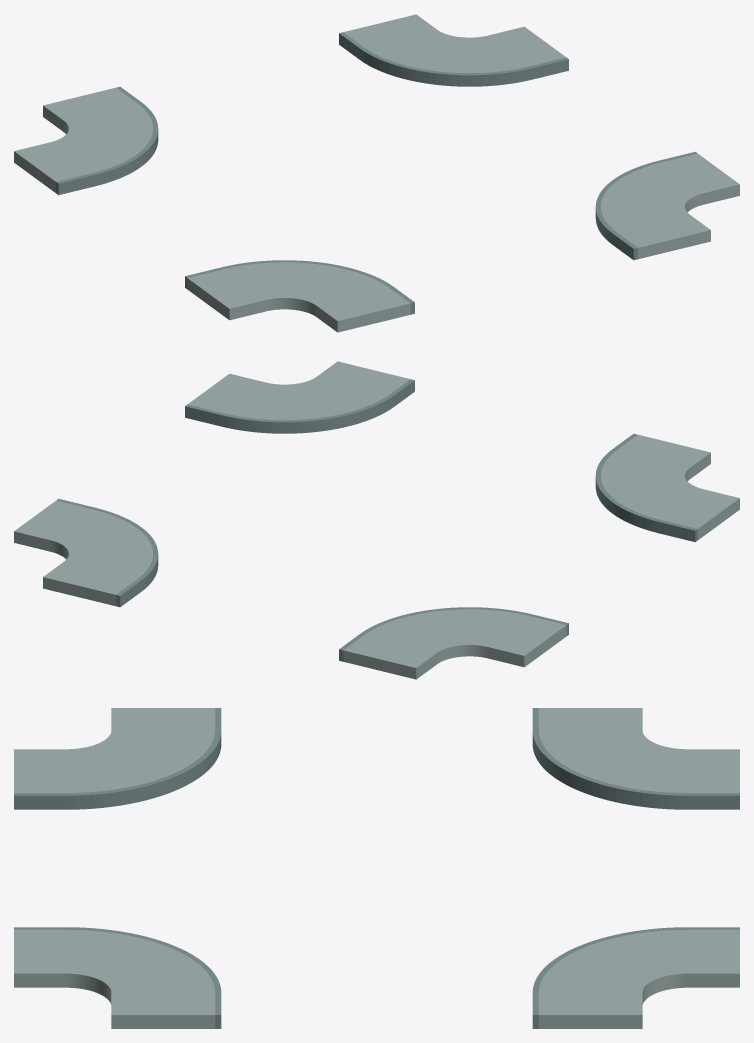
The model's file is RoadPlan_WalkCorner_X_2L.glb.
3 renders of one model, top to bottom at view 1: azimuth 30°, elevation 25°; view 2: azimuth 150°, elevation 25°; view 3: azimuth 270°, elevation 25°, orthographic. The views are drawn at different scales.
Visible parts, largest first — view 1: RoadPlan_WalkCorner_X_2L_CornerPaving_0, RoadPlan_WalkCorner_X_2L_CornerPaving_1, RoadPlan_WalkCorner_X_2L_CornerPaving_3, RoadPlan_WalkCorner_X_2L_CornerPaving_2, RoadPlan_WalkCorner_X_2L_ApproachPaving_0_1, RoadPlan_WalkCorner_X_2L_CornerCurb_2, RoadPlan_WalkCorner_X_2L_ApproachPaving_0_0, RoadPlan_WalkCorner_X_2L_ApproachPaving_1_0, RoadPlan_WalkCorner_X_2L_ApproachPaving_3_1, RoadPlan_WalkCorner_X_2L_ApproachPaving_1_1, RoadPlan_WalkCorner_X_2L_ApproachPaving_3_0, RoadPlan_WalkCorner_X_2L_ApproachPaving_2_1 (+6 smaller); view 2: RoadPlan_WalkCorner_X_2L_CornerPaving_3, RoadPlan_WalkCorner_X_2L_CornerPaving_2, RoadPlan_WalkCorner_X_2L_CornerPaving_0, RoadPlan_WalkCorner_X_2L_CornerPaving_1, RoadPlan_WalkCorner_X_2L_ApproachPaving_3_0, RoadPlan_WalkCorner_X_2L_CornerCurb_1, RoadPlan_WalkCorner_X_2L_ApproachPaving_3_1, RoadPlan_WalkCorner_X_2L_ApproachPaving_2_1, RoadPlan_WalkCorner_X_2L_ApproachPaving_0_0, RoadPlan_WalkCorner_X_2L_ApproachPaving_2_0, RoadPlan_WalkCorner_X_2L_ApproachPaving_0_1, RoadPlan_WalkCorner_X_2L_ApproachPaving_1_0 (+6 smaller); view 3: RoadPlan_WalkCorner_X_2L_CornerPaving_1, RoadPlan_WalkCorner_X_2L_CornerPaving_2, RoadPlan_WalkCorner_X_2L_CornerPaving_0, RoadPlan_WalkCorner_X_2L_CornerPaving_3, RoadPlan_WalkCorner_X_2L_ApproachPaving_1_1, RoadPlan_WalkCorner_X_2L_ApproachPaving_2_0, RoadPlan_WalkCorner_X_2L_ApproachPaving_1_0, RoadPlan_WalkCorner_X_2L_ApproachPaving_2_1, RoadPlan_WalkCorner_X_2L_CornerCurb_3, RoadPlan_WalkCorner_X_2L_CornerCurb_0, RoadPlan_WalkCorner_X_2L_ApproachPaving_0_0, RoadPlan_WalkCorner_X_2L_ApproachPaving_3_1 (+6 smaller).
Boxes of the visible parts, bbox=[...] form: RoadPlan_WalkCorner_X_2L_CornerPaving_0: bbox=[224, 262, 388, 316]; RoadPlan_WalkCorner_X_2L_CornerPaving_1: bbox=[601, 162, 703, 232]; RoadPlan_WalkCorner_X_2L_CornerPaving_3: bbox=[50, 103, 152, 172]; RoadPlan_WalkCorner_X_2L_CornerPaving_2: bbox=[365, 30, 529, 73]; RoadPlan_WalkCorner_X_2L_ApproachPaving_0_1: bbox=[316, 288, 410, 332]; RoadPlan_WalkCorner_X_2L_CornerCurb_2: bbox=[360, 47, 532, 86]; RoadPlan_WalkCorner_X_2L_ApproachPaving_0_0: bbox=[187, 269, 265, 320]; RoadPlan_WalkCorner_X_2L_ApproachPaving_1_0: bbox=[617, 214, 710, 259]; RoadPlan_WalkCorner_X_2L_ApproachPaving_3_1: bbox=[14, 142, 91, 192]; RoadPlan_WalkCorner_X_2L_ApproachPaving_1_1: bbox=[661, 153, 739, 204]; RoadPlan_WalkCorner_X_2L_ApproachPaving_3_0: bbox=[43, 87, 136, 131]; RoadPlan_WalkCorner_X_2L_ApproachPaving_2_1: bbox=[343, 14, 436, 47]; RoadPlan_WalkCorner_X_2L_CornerPaving_3: bbox=[365, 609, 529, 663]; RoadPlan_WalkCorner_X_2L_CornerPaving_2: bbox=[50, 509, 152, 579]; RoadPlan_WalkCorner_X_2L_CornerPaving_0: bbox=[601, 450, 703, 519]; RoadPlan_WalkCorner_X_2L_CornerPaving_1: bbox=[224, 377, 388, 420]; RoadPlan_WalkCorner_X_2L_ApproachPaving_3_0: bbox=[343, 635, 437, 679]; RoadPlan_WalkCorner_X_2L_CornerCurb_1: bbox=[221, 394, 393, 433]; RoadPlan_WalkCorner_X_2L_ApproachPaving_3_1: bbox=[488, 616, 566, 667]; RoadPlan_WalkCorner_X_2L_ApproachPaving_2_1: bbox=[43, 561, 136, 606]; RoadPlan_WalkCorner_X_2L_ApproachPaving_0_0: bbox=[662, 489, 739, 539]; RoadPlan_WalkCorner_X_2L_ApproachPaving_2_0: bbox=[14, 500, 92, 551]; RoadPlan_WalkCorner_X_2L_ApproachPaving_0_1: bbox=[617, 434, 710, 478]; RoadPlan_WalkCorner_X_2L_ApproachPaving_1_0: bbox=[317, 361, 410, 394]; RoadPlan_WalkCorner_X_2L_CornerPaving_1: bbox=[66, 930, 215, 1004]; RoadPlan_WalkCorner_X_2L_CornerPaving_2: bbox=[538, 930, 687, 1004]; RoadPlan_WalkCorner_X_2L_CornerPaving_0: bbox=[66, 730, 215, 792]; RoadPlan_WalkCorner_X_2L_CornerPaving_3: bbox=[538, 730, 687, 792]; RoadPlan_WalkCorner_X_2L_ApproachPaving_1_1: bbox=[111, 993, 215, 1028]; RoadPlan_WalkCorner_X_2L_ApproachPaving_2_0: bbox=[538, 993, 642, 1028]; RoadPlan_WalkCorner_X_2L_ApproachPaving_1_0: bbox=[14, 929, 65, 987]; RoadPlan_WalkCorner_X_2L_ApproachPaving_2_1: bbox=[688, 929, 739, 987]; RoadPlan_WalkCorner_X_2L_CornerCurb_3: bbox=[532, 730, 687, 809]; RoadPlan_WalkCorner_X_2L_CornerCurb_0: bbox=[66, 730, 221, 809]; RoadPlan_WalkCorner_X_2L_ApproachPaving_0_0: bbox=[111, 708, 215, 729]; RoadPlan_WalkCorner_X_2L_ApproachPaving_3_1: bbox=[538, 708, 642, 729].
Bounding box in the file's own units: 14 × 0.3 × 14.
